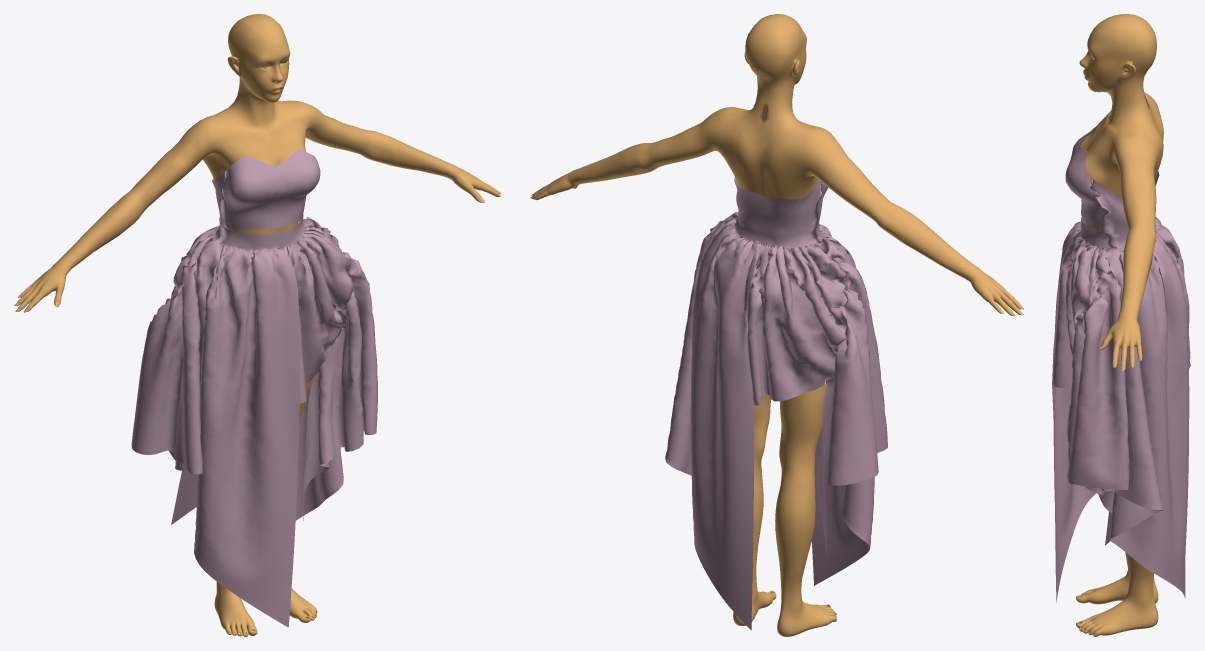
Rendered from dress8.glb.
The picture shows the model from 3 angles, left to right: view 1: azimuth 30°, elevation 25°; view 2: azimuth 150°, elevation 25°; view 3: azimuth 270°, elevation 25°; orthographic projection.
Visible parts, largest first — view 1: Project 1, Body; view 2: Project 1, Body; view 3: Project 1, Body.
Boxes of the visible parts, bbox=[...] form: Project 1: bbox=[131, 149, 377, 627]; Body: bbox=[16, 14, 500, 636]; Project 1: bbox=[665, 177, 887, 630]; Body: bbox=[531, 14, 1021, 636]; Project 1: bbox=[1052, 126, 1190, 602]; Body: bbox=[1076, 14, 1163, 636].
Bounding box in the file's own units: 1.58 × 1.85 × 0.3878.
